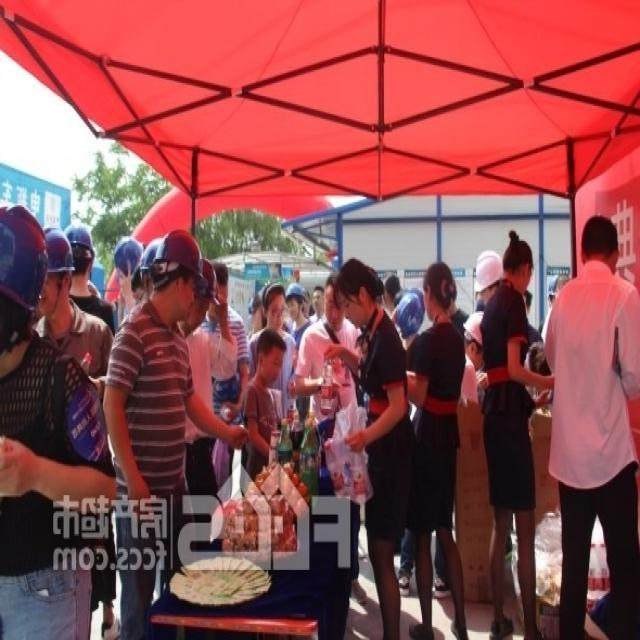Con_Casco: (151, 230, 205, 318)
Sin_Casco_Mascarrilla: (580, 214, 620, 271), (423, 262, 457, 322), (255, 330, 287, 387)
